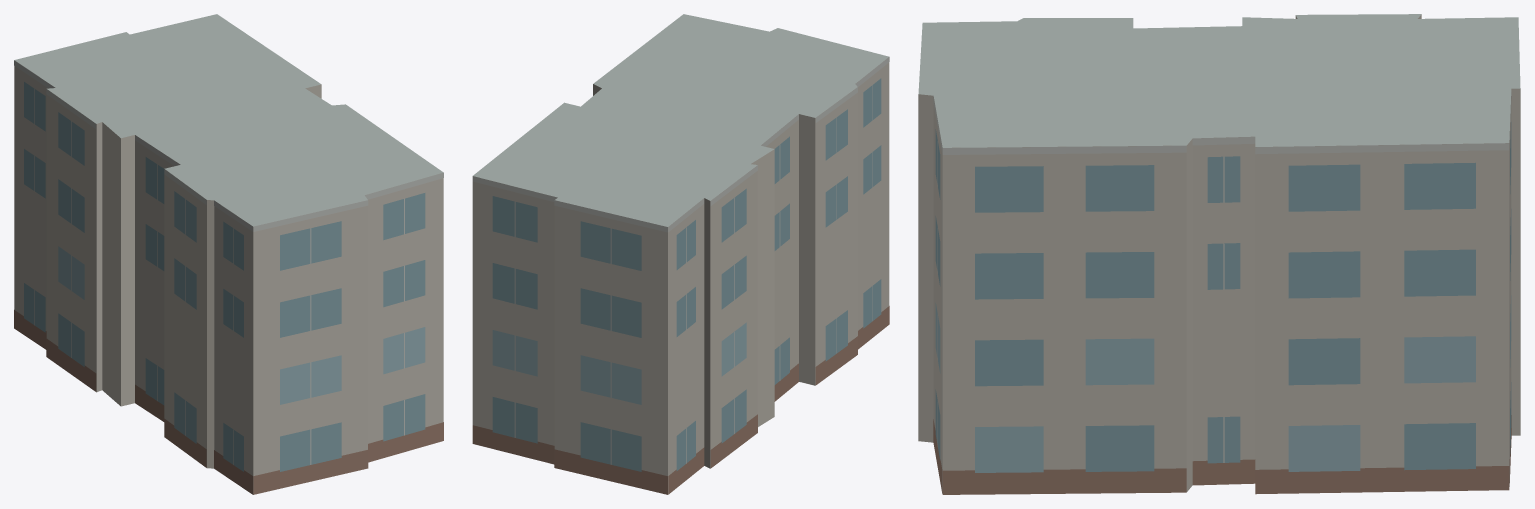
File: survey-upis-32477295.glb
The picture shows the model from 3 angles, left to right: view 1: azimuth 30°, elevation 25°; view 2: azimuth 150°, elevation 25°; view 3: azimuth 270°, elevation 25°; orthographic projection. The views are drawn at different scales.
Parts seen in each view (by area): view 1: survey-upis-32477295.tmp; view 2: survey-upis-32477295.tmp; view 3: survey-upis-32477295.tmp.
Boxes of the visible parts, x1,y1,x2,y2 form: survey-upis-32477295.tmp: (14, 14, 443, 494); survey-upis-32477295.tmp: (472, 14, 889, 494); survey-upis-32477295.tmp: (918, 14, 1520, 494).
Size of the model in its own units: 9.86 by 11.9 by 18.72.
